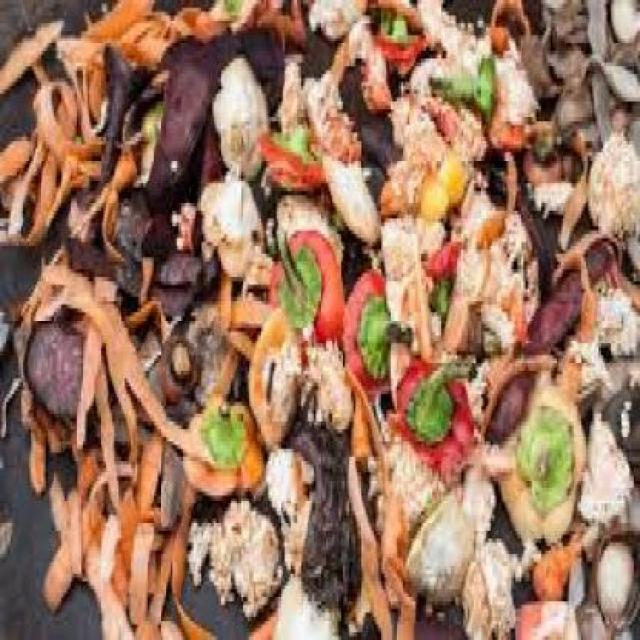garbage: (0, 17, 638, 630)
